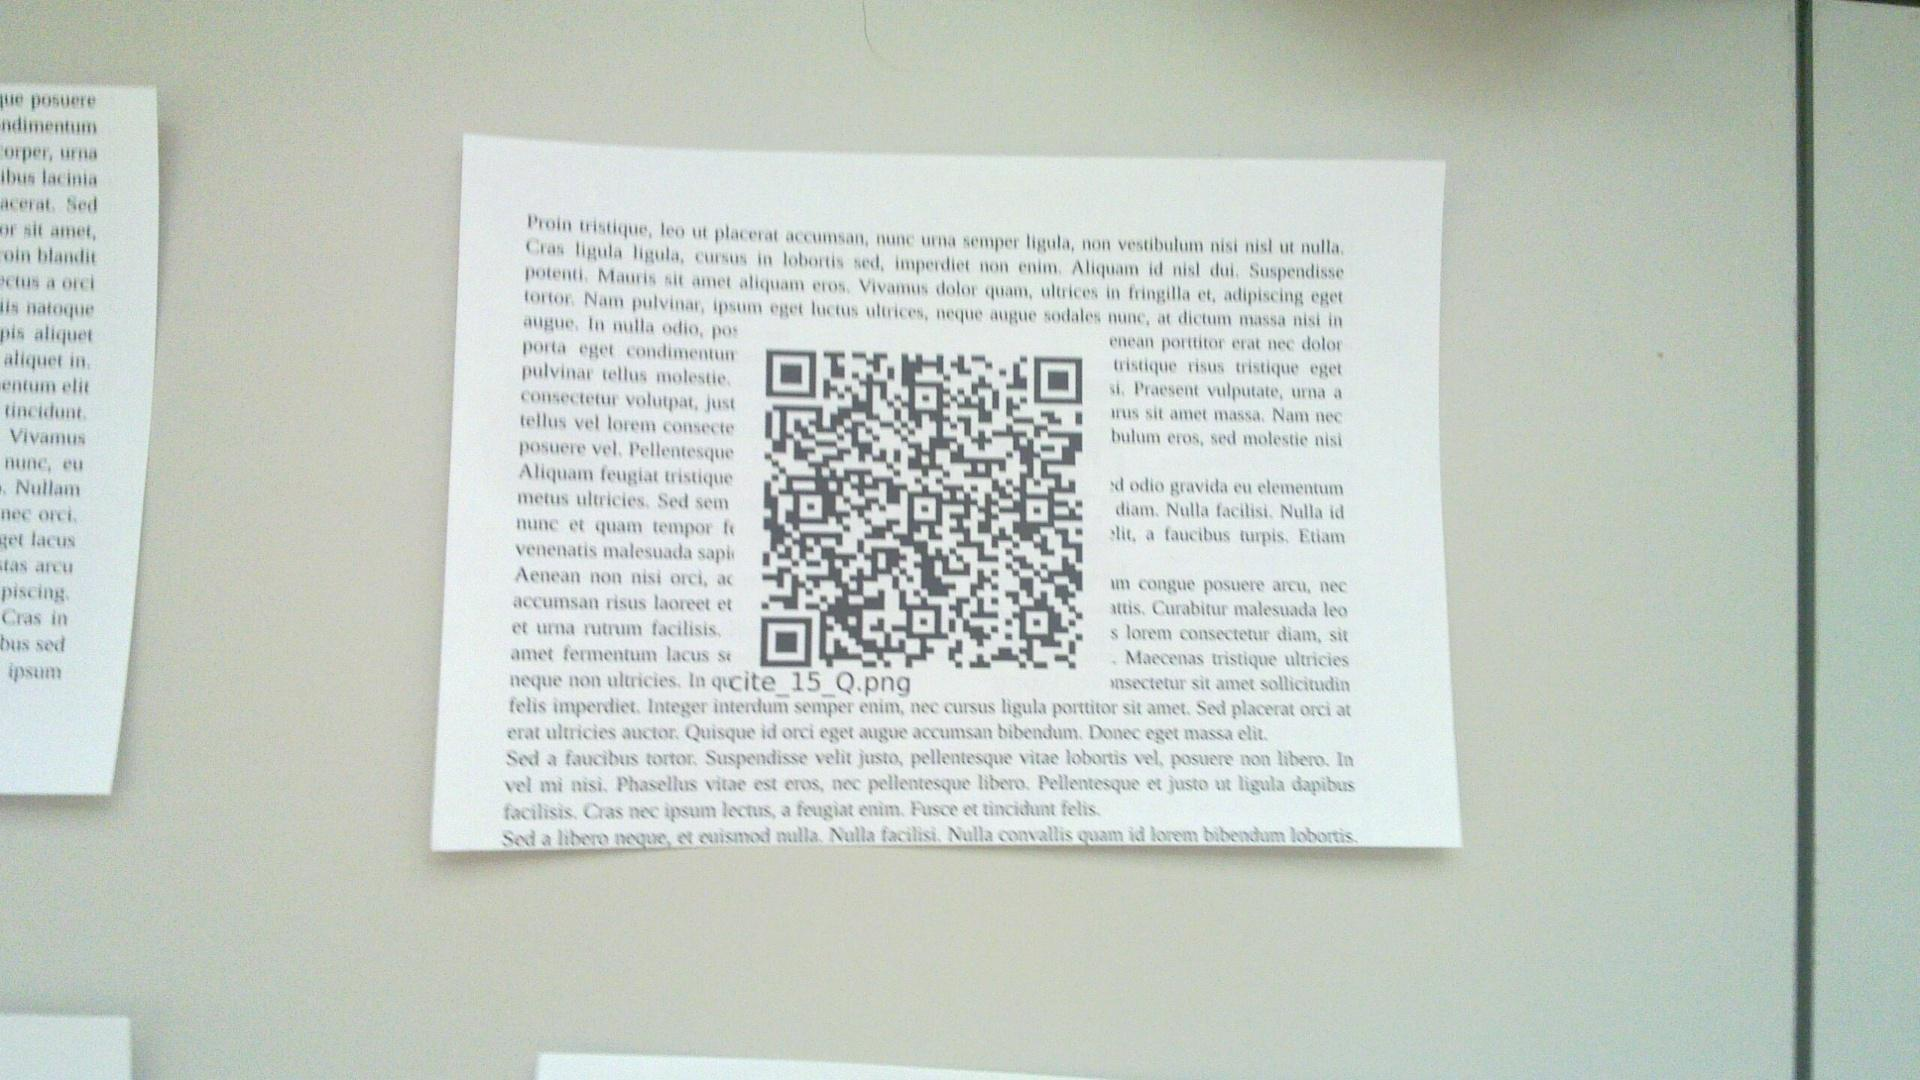Finder pattern: (753, 609, 822, 676), (758, 342, 822, 405), (1029, 349, 1087, 405)
